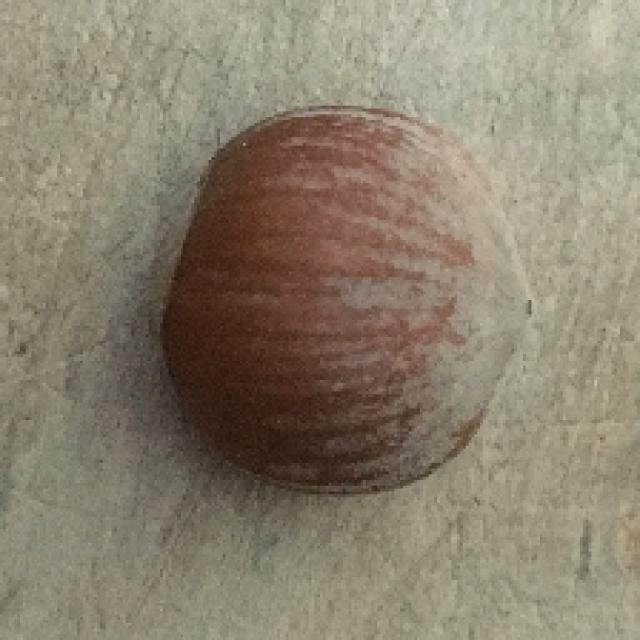qualityHazelnut: (152, 103, 532, 496)
